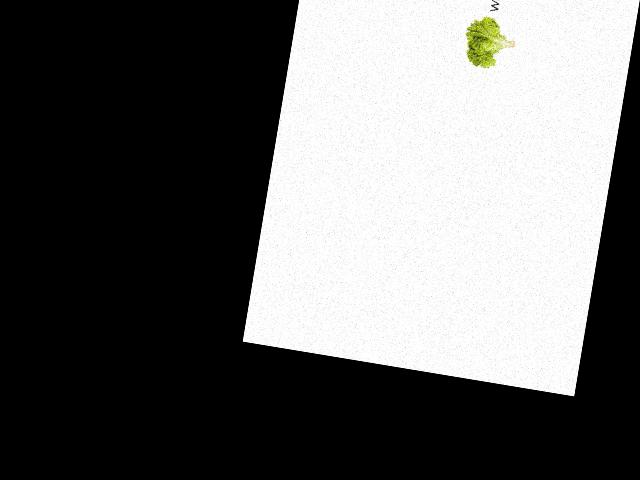lettuce: (460, 8, 519, 74)
